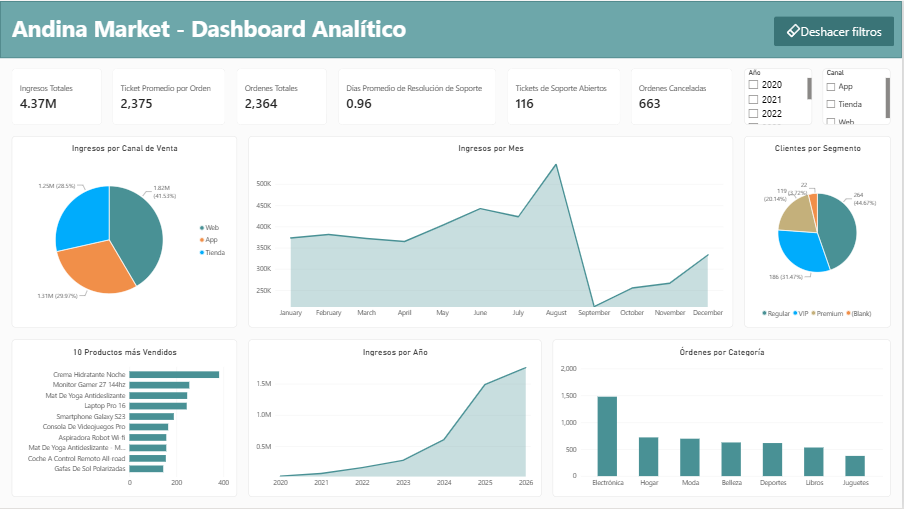

The page's visual inventory and layout, read from the dashboard file:
{"tool":"powerbi","page":{"name":"Page 1","canvas":[1920,1080],"ordinal":0},"visuals":[{"type":"cardVisual","fields":{"Data":["Sum(fact_orders.TotalAmount)"]},"box":[16,144,191.4,111.4],"z":0},{"type":"cardVisual","fields":{"Data":["Avg(fact_orders.TotalAmount)"]},"box":[240,144,191.4,111.4],"z":1000},{"type":"cardVisual","title":"Tiempo Promedio de Resolución de Soporte","fields":{"Data":["Avg(fact_support_tickets.DaysToUpdate)"]},"box":[464,144,191.4,111.4],"z":2000},{"type":"pieChart","title":"Ingresos por Canal de Venta","fields":{"Category":["fact_orders.Channel"],"Y":["Sum(fact_orders.TotalAmount)"]},"box":[16,384,496,320],"z":3000},{"type":"areaChart","title":"Ingresos por Mes","fields":{"Category":["dim_date.FullDate.Variation.Jerarquía de fechas.Mes"],"Y":["Sum(fact_orders.TotalAmount)"]},"box":[528,384,624,312],"z":4000},{"type":"slicer","fields":{"Values":["dim_date.FullDate.Variation.Jerarquía de fechas.Año"]},"box":[16,272,96,96],"z":5000},{"type":"areaChart","title":"Ingresos por Año","fields":{"Category":["dim_date.FullDate.Variation.Jerarquía de fechas.Año"],"Y":["Sum(fact_orders.TotalAmount)"]},"box":[528,704,624,352],"z":6000},{"type":"barChart","title":"10 Productos más Vendidos","fields":{"Category":["dim_product.ProductName"],"Y":["Sum(fact_order_items.Quantity)"]},"box":[16,720,496,336],"z":7000},{"type":"columnChart","title":"Clientes por País","fields":{"Category":["dim_customer.Country"],"Y":["dim_customer.Customers (Filtrado)"]},"box":[1168,384,400,304],"z":8000},{"type":"pieChart","title":"Clientes por Segmento","fields":{"Category":["dim_customer.Segment"],"Y":["CountNonNull(dim_customer.CustomerID)"]},"box":[1584,384,320,304],"z":9000},{"type":"cardVisual","title":"Tiempo Promedio de Resolución de Soporte","fields":{"Data":["Count(fact_orders.OrderID)"]},"box":[688,144,191.4,111.4],"z":10000},{"type":"shape","box":[0,0,1920,121.7],"z":11000},{"type":"slicer","fields":{"Values":["fact_orders.Channel"]},"box":[128,272,144,96],"z":12000},{"type":"textbox","box":[16,16,572.9,88.6],"z":13000},{"type":"columnChart","title":"Órdenes por Categoría","fields":{"Category":["dim_product.Category"],"Y":["Count(fact_orders.OrderID)"]},"box":[1168,704,736,352],"z":14000},{"type":"actionButton","box":[1648,32,256,64],"z":15000},{"type":"cardVisual","title":"Tiempo Promedio de Resolución de Soporte","fields":{"Data":["CountNonNull(fact_support_tickets.TicketID)"]},"box":[912,144,240,112],"z":16000}]}

Visuals, with their boxes in screenshot pixels (x1, y1, x2, y2), scaled from the page's 1920x1080 canvas onto the 904x509 screenshot:
cardVisual - Sum(fact_orders.TotalAmount): l=8, t=68, r=98, b=120
cardVisual - Avg(fact_orders.TotalAmount): l=113, t=68, r=203, b=120
"Tiempo Promedio de Resolución de Soporte" cardVisual: l=218, t=68, r=309, b=120
"Ingresos por Canal de Venta" pieChart: l=8, t=181, r=241, b=332
"Ingresos por Mes" areaChart: l=249, t=181, r=542, b=328
slicer - dim_date.FullDate.Variation.Jerarquía de fechas.Año: l=8, t=128, r=53, b=173
"Ingresos por Año" areaChart: l=249, t=332, r=542, b=498
"10 Productos más Vendidos" barChart: l=8, t=339, r=241, b=498
"Clientes por País" columnChart: l=550, t=181, r=738, b=324
"Clientes por Segmento" pieChart: l=746, t=181, r=896, b=324
"Tiempo Promedio de Resolución de Soporte" cardVisual: l=324, t=68, r=414, b=120
shape: l=0, t=0, r=903, b=57
slicer - fact_orders.Channel: l=60, t=128, r=128, b=173
textbox: l=8, t=8, r=277, b=49
"Órdenes por Categoría" columnChart: l=550, t=332, r=896, b=498
actionButton: l=776, t=15, r=896, b=45
"Tiempo Promedio de Resolución de Soporte" cardVisual: l=429, t=68, r=542, b=121
